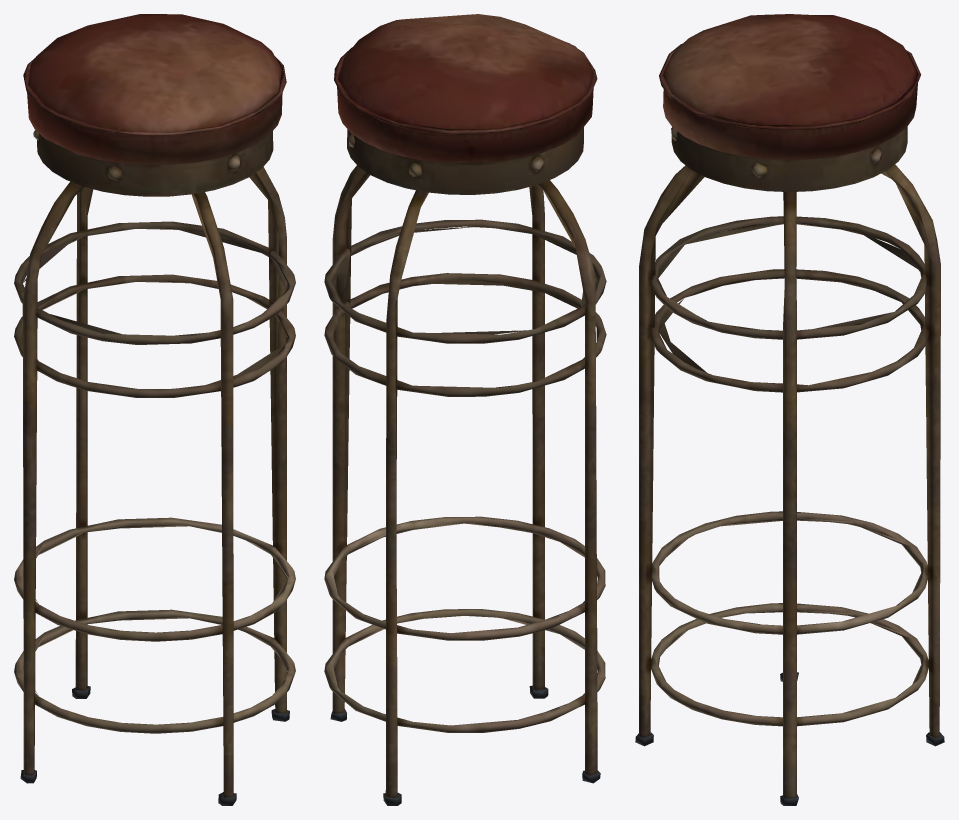
File: metal_stool_01.glb
The picture shows the model from 3 angles, left to right: view 1: azimuth 30°, elevation 25°; view 2: azimuth 150°, elevation 25°; view 3: azimuth 270°, elevation 25°; orthographic projection.
Visible parts, largest first — view 1: metal_stool_01, metal_stool_01_lo; view 2: metal_stool_01, metal_stool_01_lo; view 3: metal_stool_01, metal_stool_01_lo.
Boxes of the visible parts, <box> form: metal_stool_01: <box>14,14,295,805</box>; metal_stool_01_lo: <box>21,118,288,798</box>; metal_stool_01: <box>324,14,606,805</box>; metal_stool_01_lo: <box>332,105,597,798</box>; metal_stool_01: <box>635,14,944,805</box>; metal_stool_01_lo: <box>636,108,935,797</box>.
Size of the model in its own units: 0.3505 by 0.8822 by 0.3538.
Materials: 1 (1 with a texture image).
